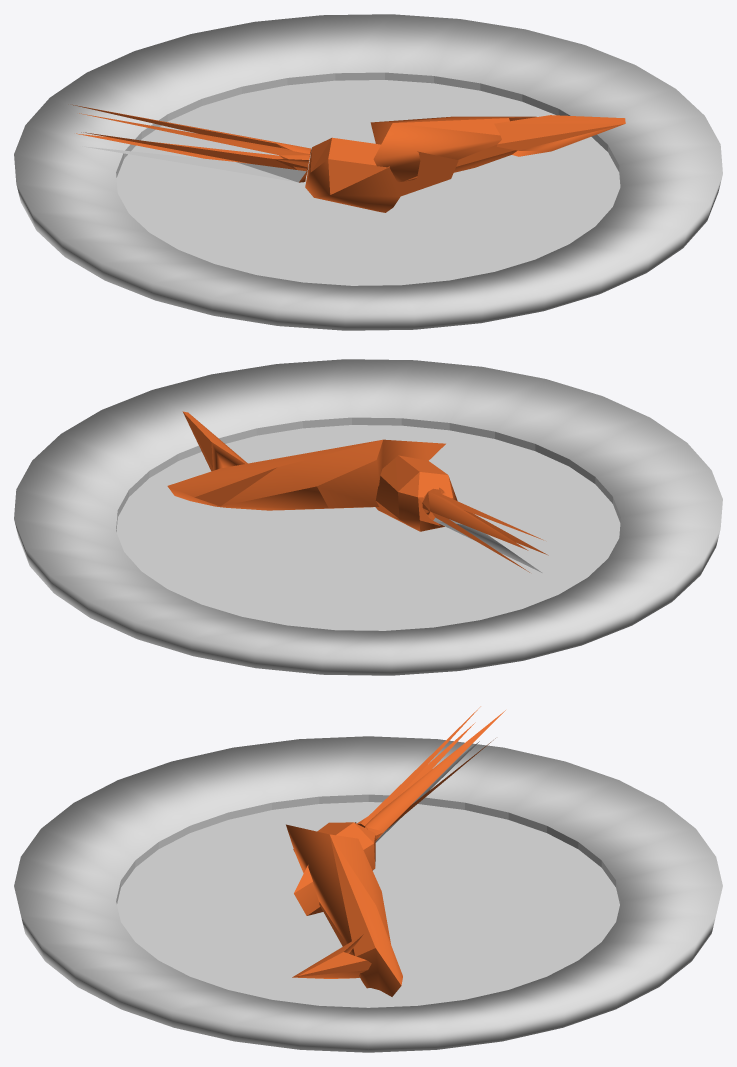
File: processedCarrot.fbx
3 renders of one model, top to bottom at view 1: azimuth 30°, elevation 25°; view 2: azimuth 150°, elevation 25°; view 3: azimuth 270°, elevation 25°, orthographic.
Parts seen in each view (by area): view 1: carrot; view 2: carrot; view 3: carrot.
Part boxes in pixels (x1,y1,x2,y2): carrot: (14, 14, 722, 330); carrot: (14, 359, 722, 675); carrot: (14, 706, 722, 1052).
Bounding box in the file's own units: 178 × 33.17 × 178.
